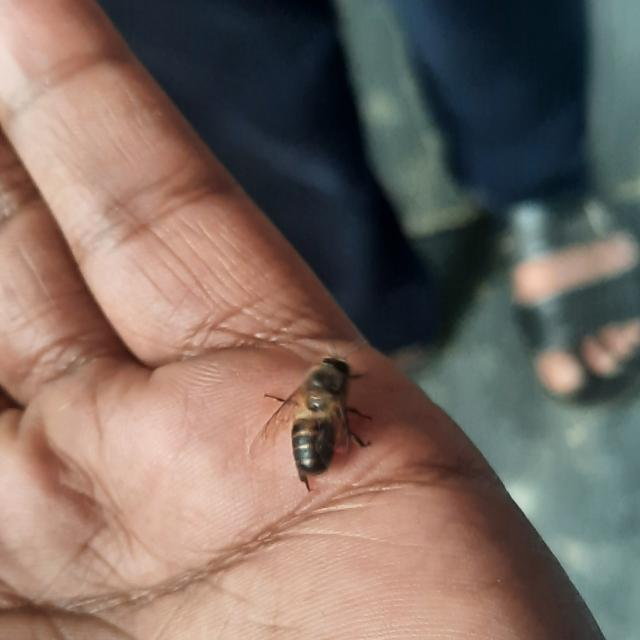honeybee: (274, 364, 419, 481)
